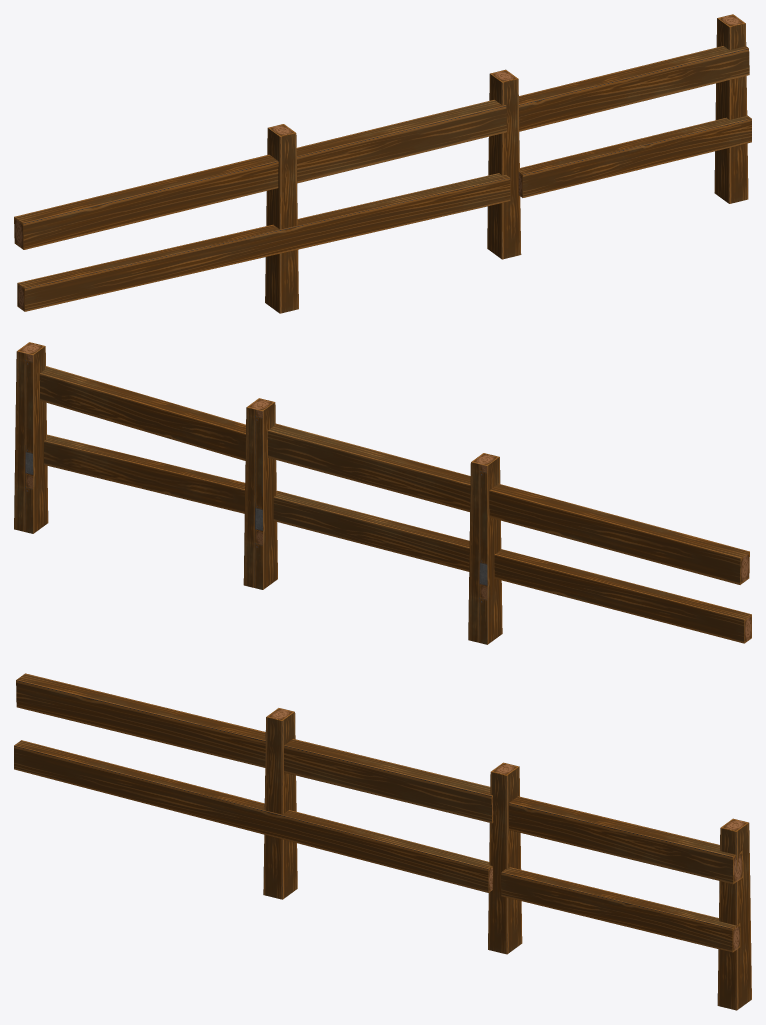
3 views of the same model, one above another, from view 1: azimuth 30°, elevation 25°; view 2: azimuth 150°, elevation 25°; view 3: azimuth 330°, elevation 25° (orthographic).
Parts seen in each view (by area): view 1: Cube.1616; view 2: Cube.1616; view 3: Cube.1616.
Boxes of the visible parts, x1=… form: Cube.1616: x1=14, y1=14, x2=751, y2=313; Cube.1616: x1=14, y1=342, x2=751, y2=644; Cube.1616: x1=14, y1=673, x2=751, y2=1010.
Bounding box in the file's own units: 565 × 132 × 25.81.
Materials: 1 (1 with a texture image).
